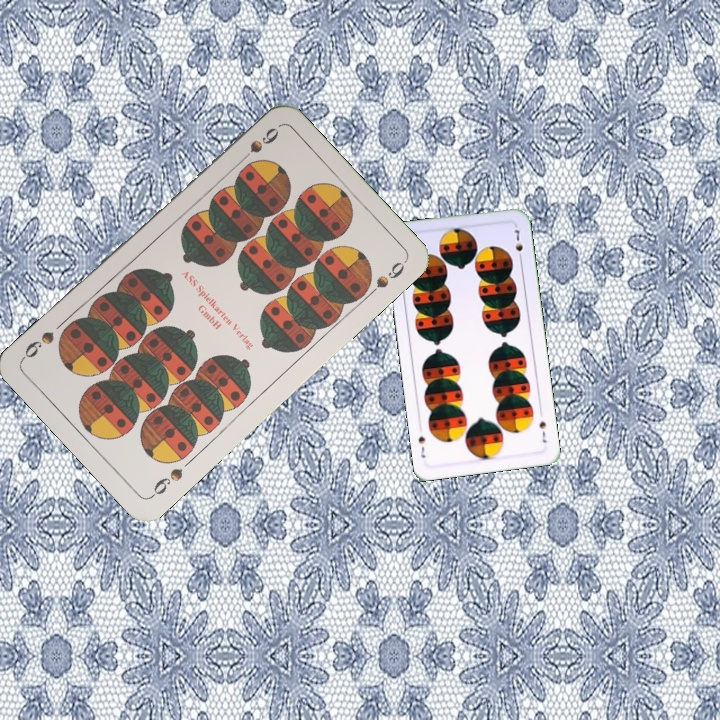S7: (535, 417, 549, 445)
S9: (233, 123, 282, 168), (147, 464, 186, 501)
